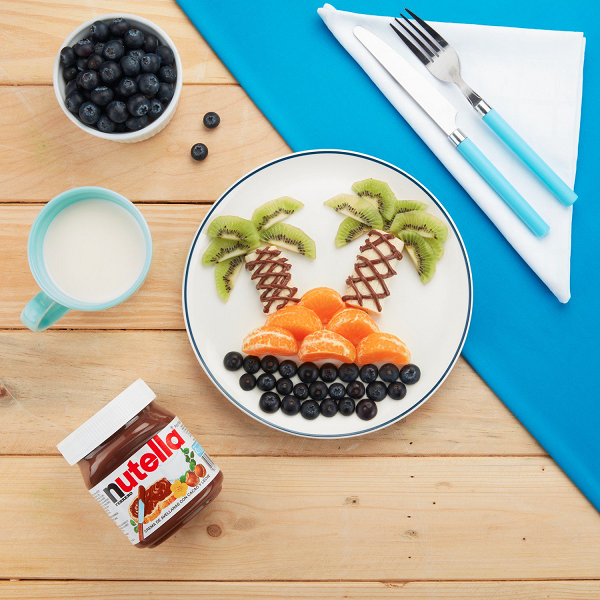nutella: (54, 376, 225, 550)
